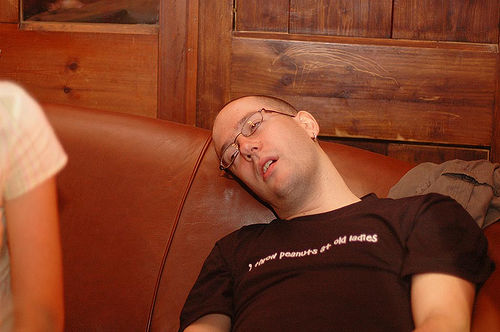without_mask: (212, 100, 327, 211)
